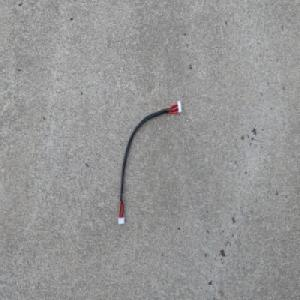Wire: (116, 99, 183, 229)
